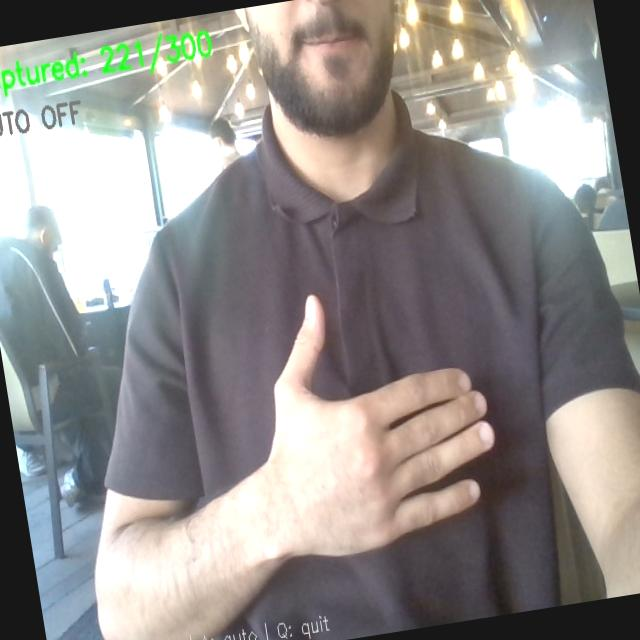Hand: (267, 297, 493, 555)
